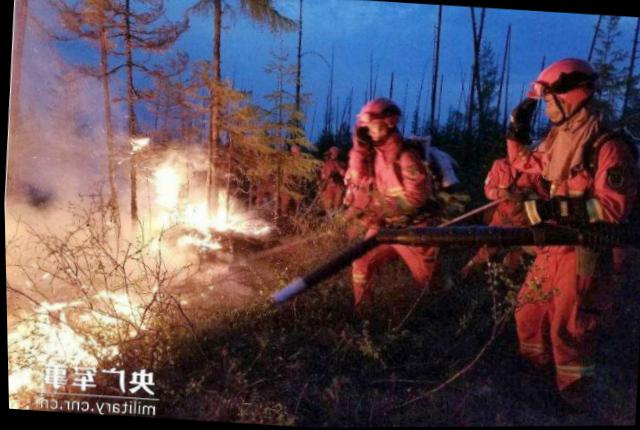fire: (5, 272, 159, 409), (135, 138, 275, 273)
